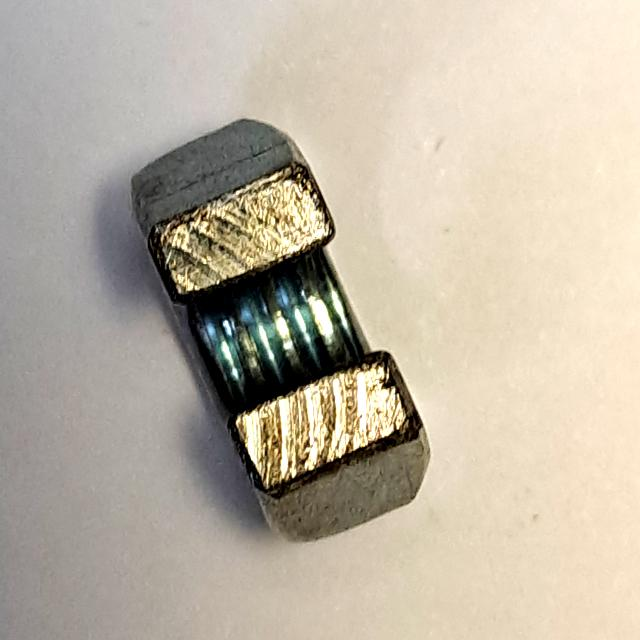Side-Fracture: (109, 100, 446, 556)
